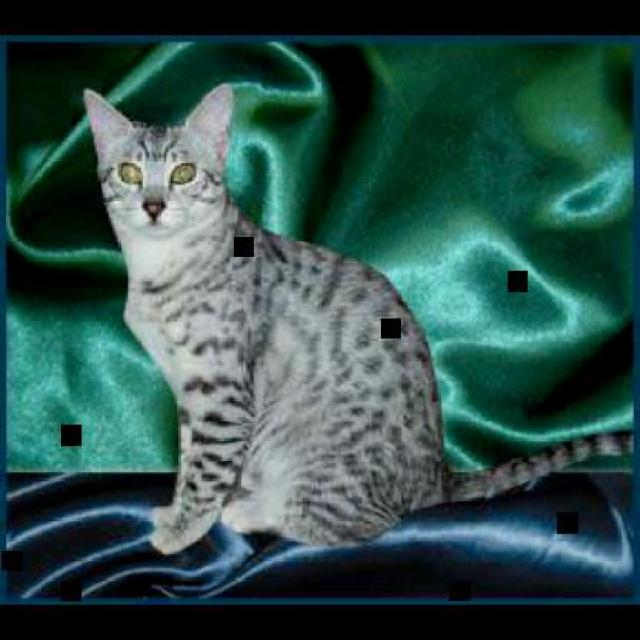unauthorized: (80, 82, 632, 556)
